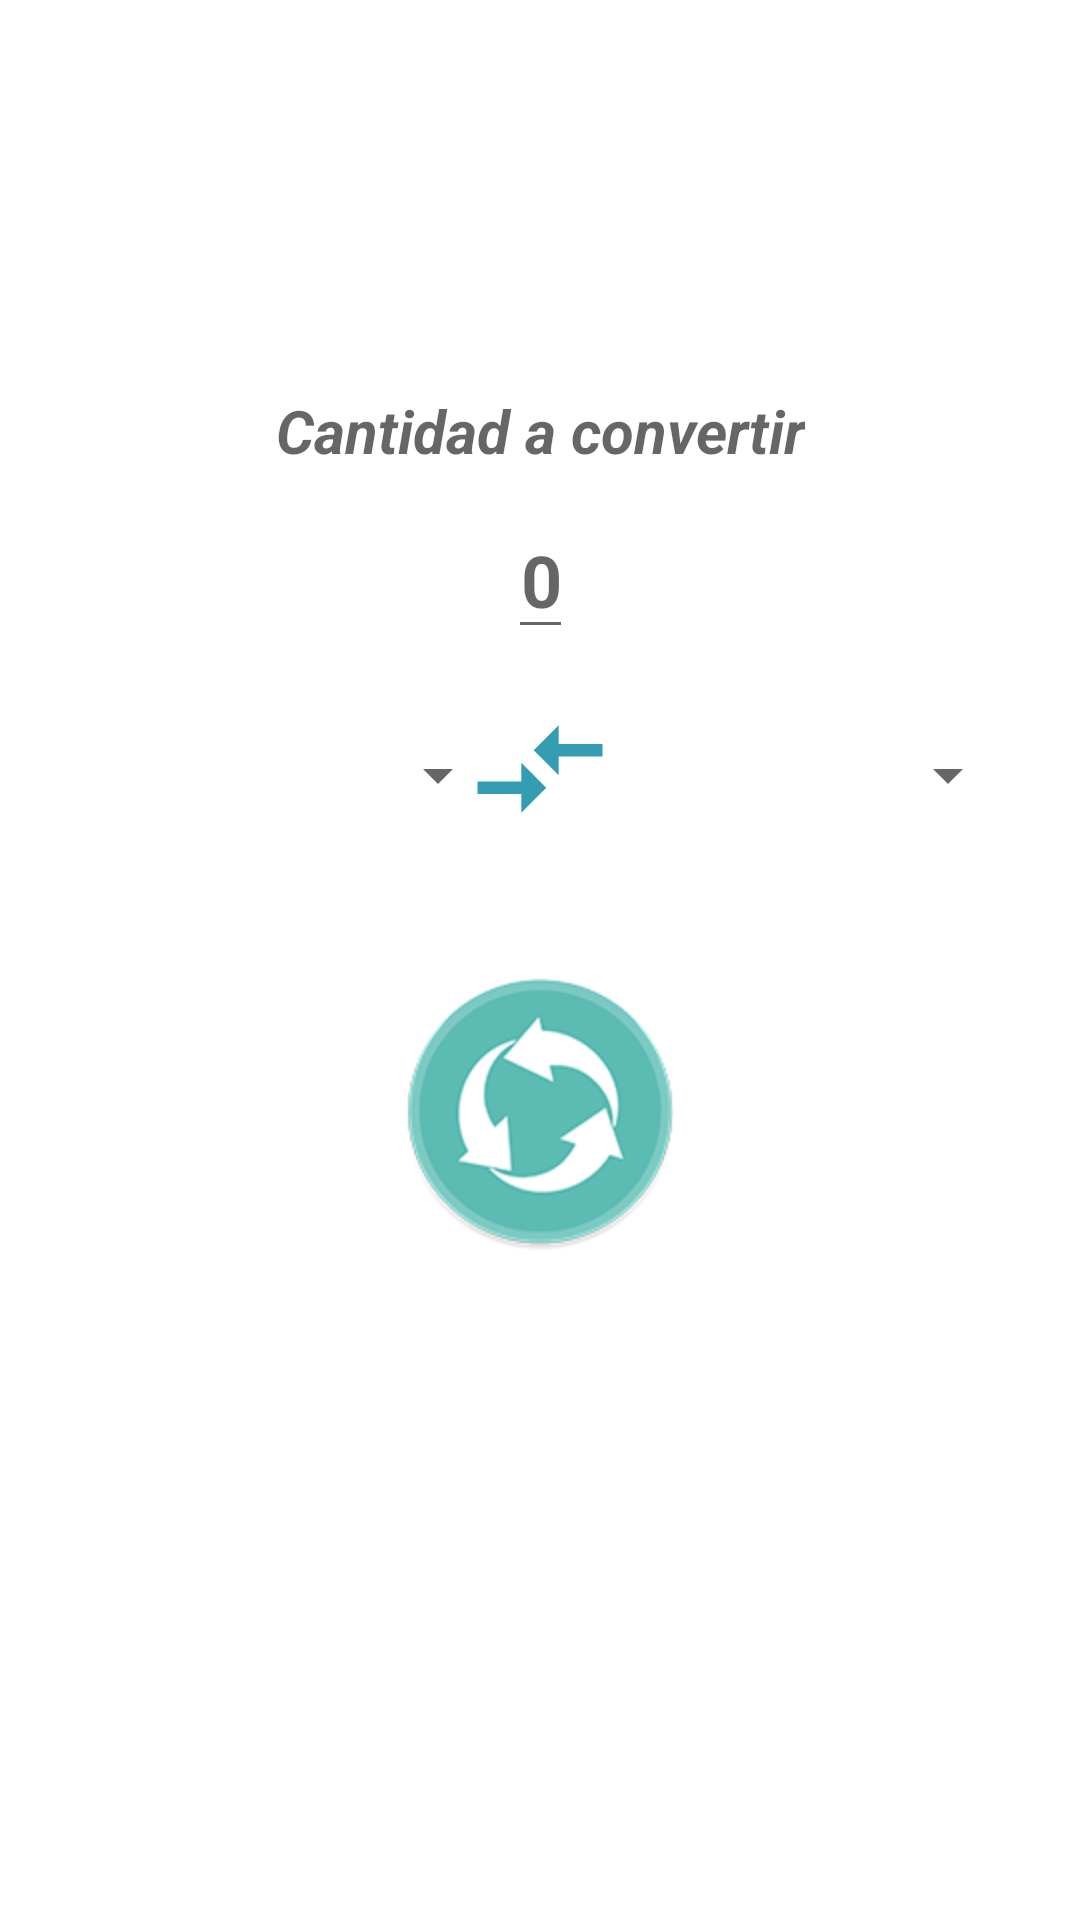

Where to tap for icons on this 1080w x 1920h app screen, as (x=x, y=y):
cambiar: (x=540, y=769)
icoconver: (x=540, y=1113)
